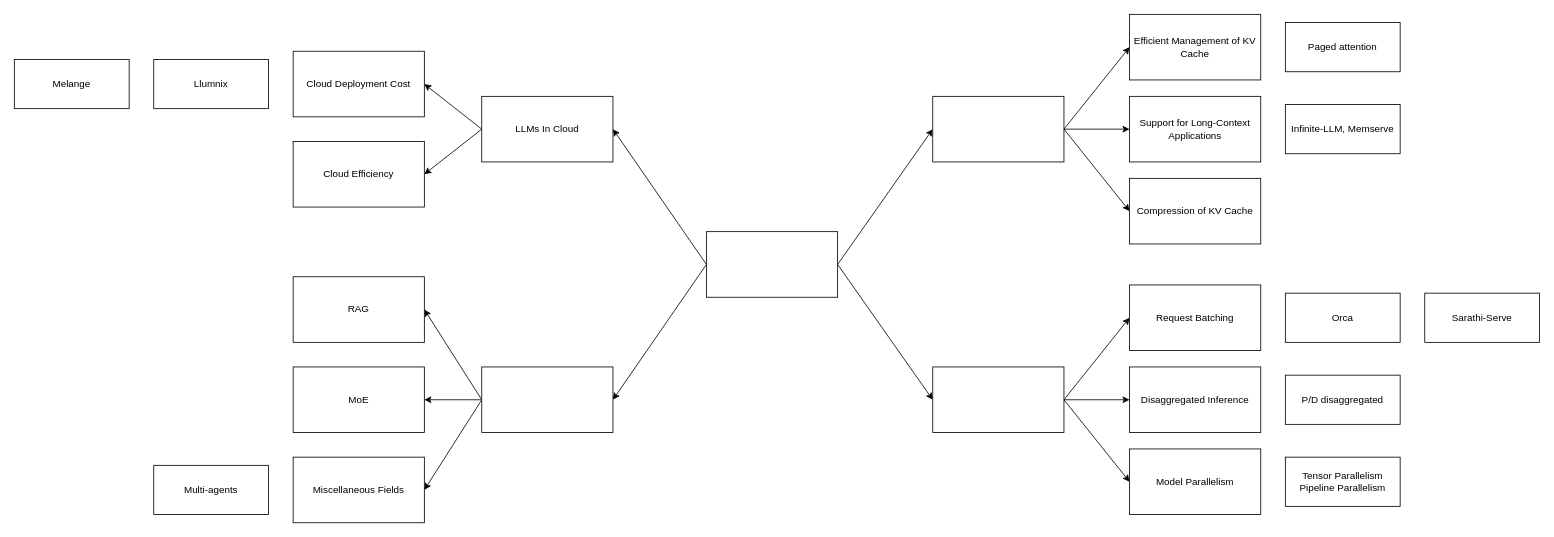
This 1554x537 diagram has some shape labels left out. Here are the shapes that lost their labels. From the top down, the centre of each, then its label:
At (x=998, y=129): "memory management and caching".
At (x=772, y=264): "the recent advances in LLM serving systems".
At (x=547, y=399): "Emerging Research Fields".
At (x=998, y=399): "Computation Task Scheduling".
